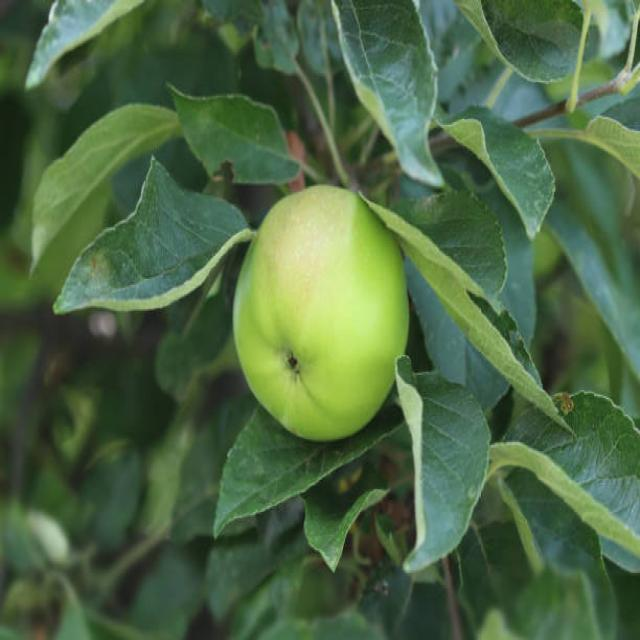Unripe: (234, 180, 411, 447)
